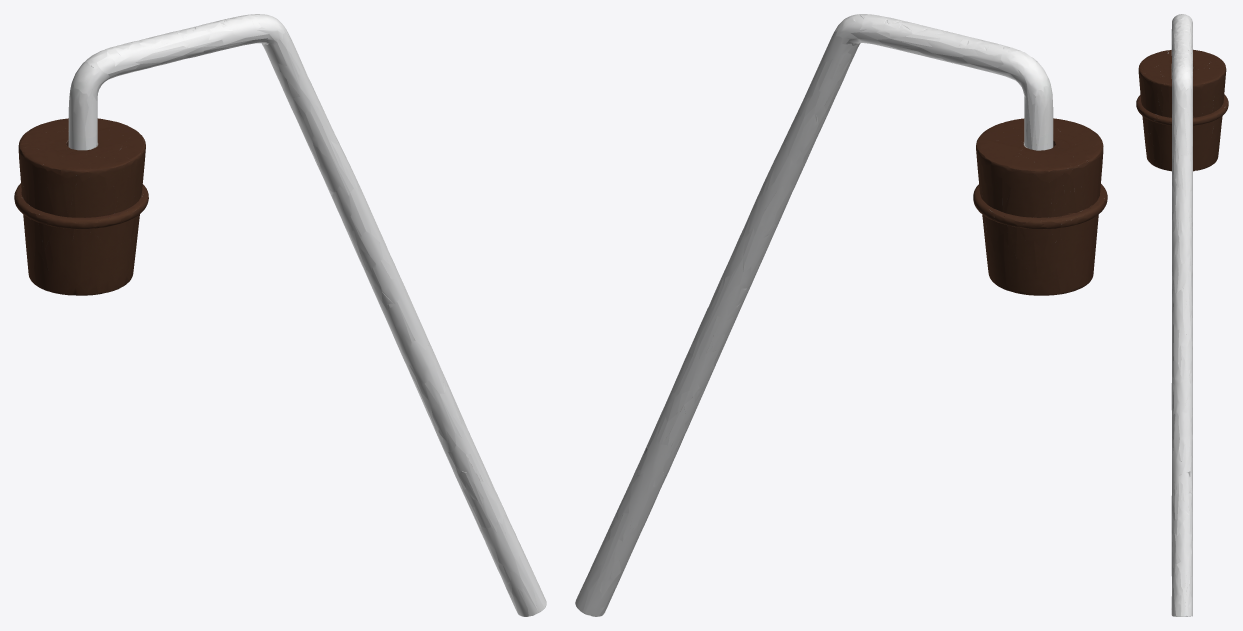
The model's file is Meshy_AI_Cork_With_Delivery_Tu_0908183214_texture.glb.
The picture shows the model from 3 angles, left to right: view 1: azimuth 30°, elevation 25°; view 2: azimuth 150°, elevation 25°; view 3: azimuth 270°, elevation 25°; orthographic projection. The views are drawn at different scales.
Parts seen in each view (by area): view 1: output_unwrapped; view 2: output_unwrapped; view 3: output_unwrapped.
Boxes of the visible parts, left/top/right/bottom form: output_unwrapped: left=14, top=14, right=546, bottom=616; output_unwrapped: left=575, top=14, right=1107, bottom=616; output_unwrapped: left=1136, top=14, right=1228, bottom=616.
Bounding box in the file's own units: 1.56 × 1.9 × 0.3461.
Materials: 1 (1 with a texture image).
